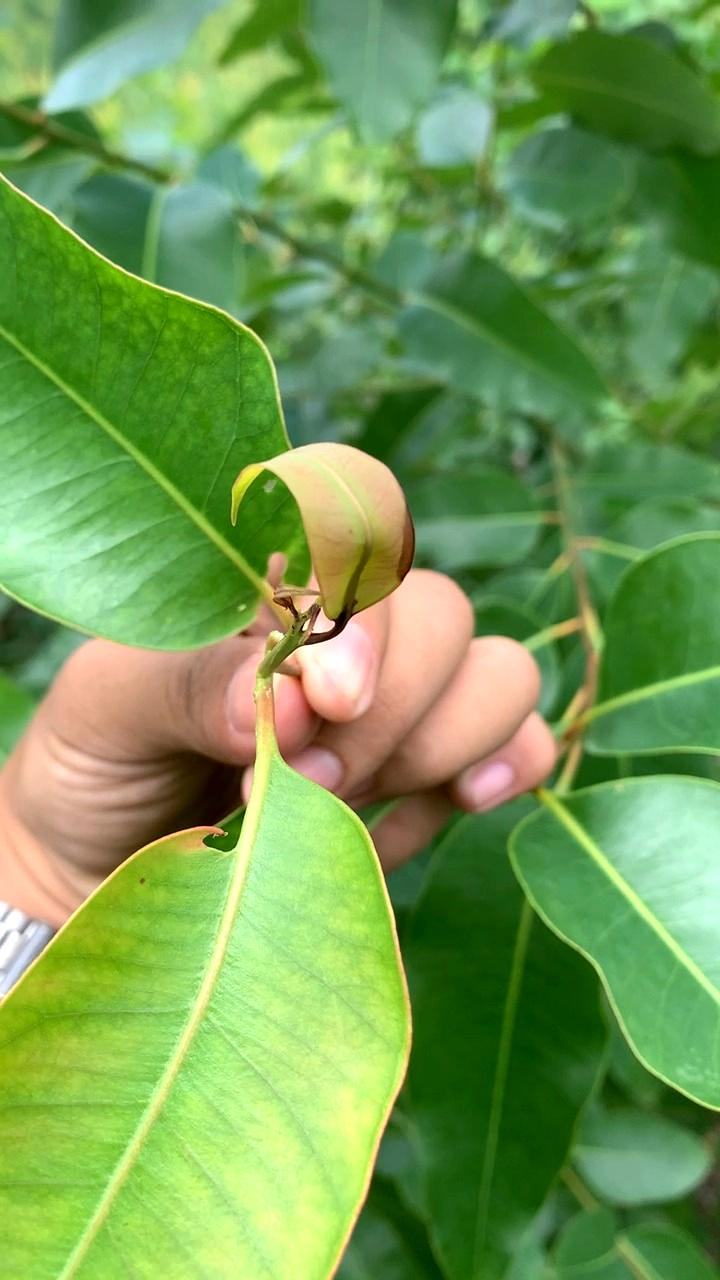Helopeltis-Withered Sprout: (226, 450, 421, 630)
